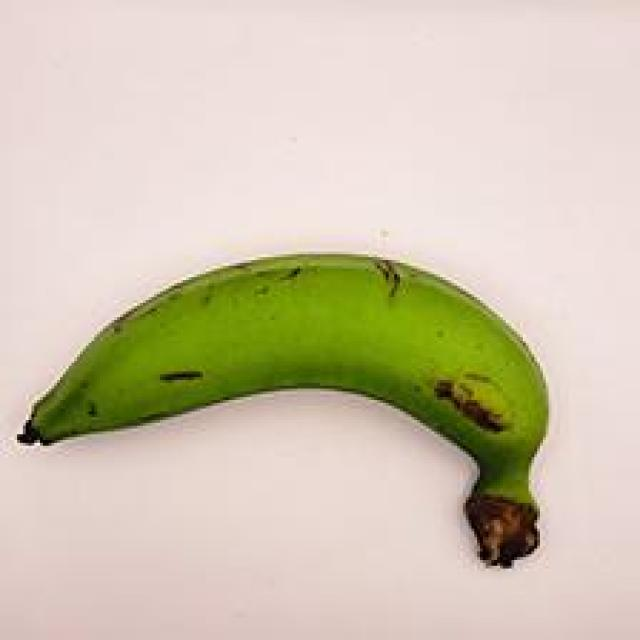Raw: (13, 225, 562, 596)
